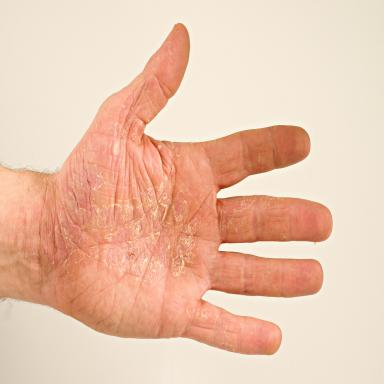eczema: (56, 164, 203, 286), (219, 195, 282, 231), (186, 302, 212, 325), (220, 324, 238, 352), (257, 156, 270, 172)
